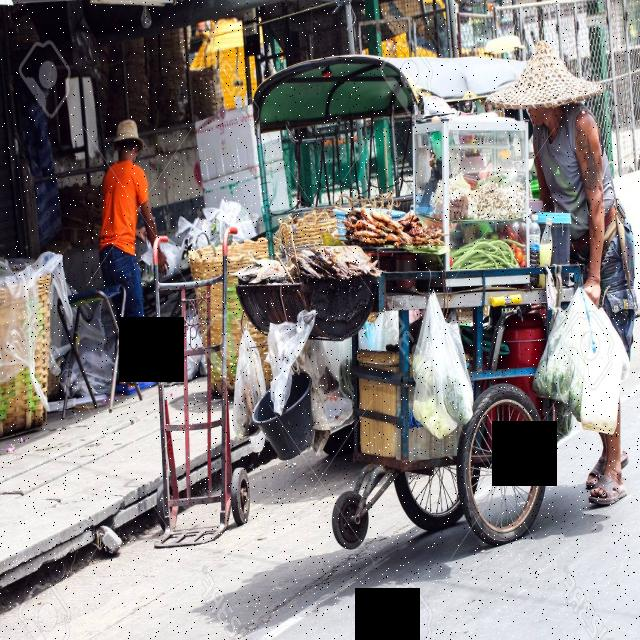food-booth: (235, 55, 628, 552)
